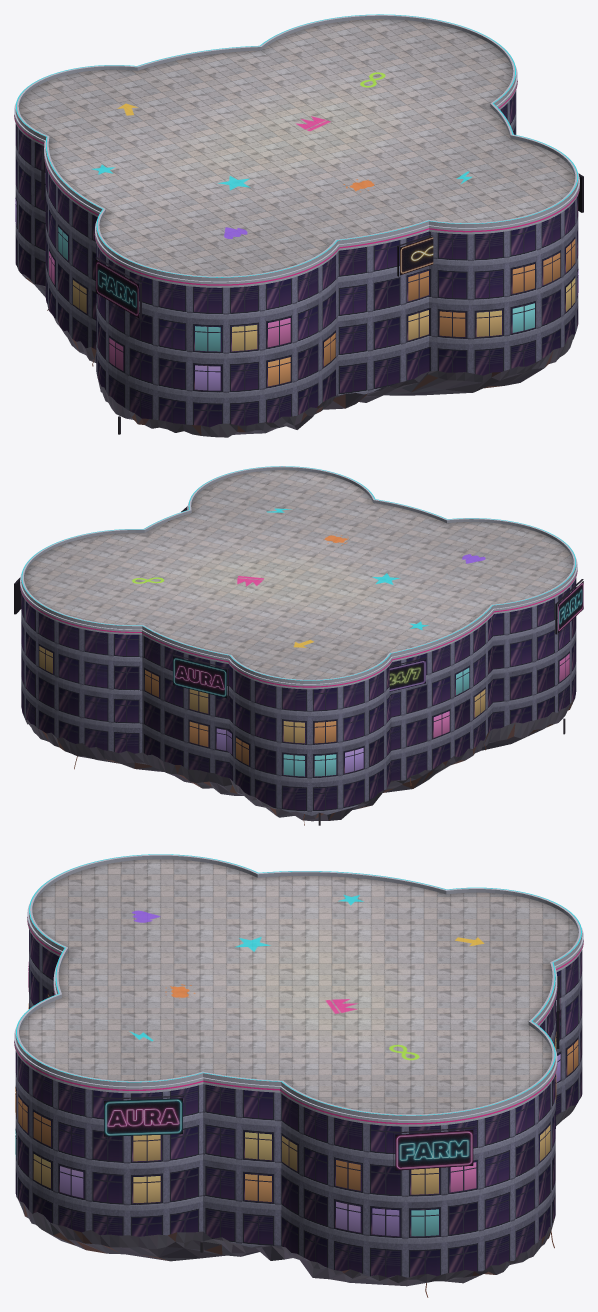
The model's file is island_arena.glb.
3 views of the same model, one above another, from view 1: azimuth 30°, elevation 25°; view 2: azimuth 150°, elevation 25°; view 3: azimuth 270°, elevation 25° (orthographic). The views are drawn at different scales.
Visible parts, largest first — view 1: Island, Lit_Windows, Lit_Signs, Neon_2ef2ff, Decals, Neon_ff3ea5; view 2: Island, Lit_Windows, Lit_Signs, Neon_2ef2ff, Decals, Neon_ff3ea5; view 3: Island, Lit_Windows, Lit_Signs, Neon_2ef2ff, Decals, Neon_ff3ea5.
Part boxes in pixels (x1=…): Island: x1=14, y1=14, x2=583, y2=437; Lit_Windows: x1=15, y1=198, x2=578, y2=390; Lit_Signs: x1=95, y1=236, x2=433, y2=317; Neon_2ef2ff: x1=16, y1=14, x2=578, y2=277; Decals: x1=92, y1=72, x2=471, y2=238; Neon_ff3ea5: x1=14, y1=81, x2=579, y2=285; Island: x1=14, y1=466, x2=583, y2=825; Lit_Windows: x1=39, y1=646, x2=569, y2=776; Lit_Signs: x1=173, y1=581, x2=583, y2=698; Neon_2ef2ff: x1=21, y1=466, x2=575, y2=680; Decals: x1=132, y1=508, x2=485, y2=647; Neon_ff3ea5: x1=20, y1=571, x2=577, y2=687; Island: x1=14, y1=854, x2=583, y2=1297; Lit_Windows: x1=15, y1=962, x2=578, y2=1236; Lit_Signs: x1=48, y1=990, x2=560, y2=1170; Neon_2ef2ff: x1=16, y1=854, x2=581, y2=1115; Decals: x1=129, y1=895, x2=484, y2=1060; Neon_ff3ea5: x1=14, y1=917, x2=583, y2=1124.
Bounding box in the file's own units: 48.17 × 20.71 × 43.26.
8 materials, 4 textured.
